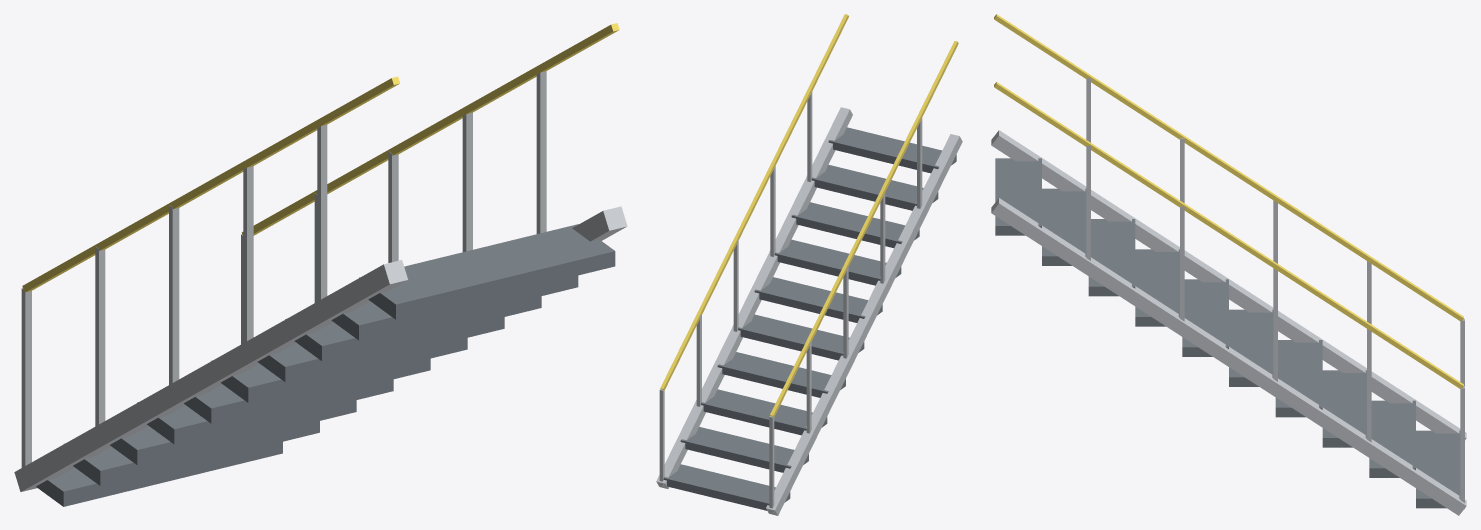
The model's file is mech-hangar-and-battle-frames-gantry-stair-97a75b2c__26927.glb.
3 renders of one model, left to right at view 1: azimuth 30°, elevation 25°; view 2: azimuth 150°, elevation 25°; view 3: azimuth 270°, elevation 25°, orthographic. The views are drawn at different scales.
Visible parts, largest first — view 1: gantry-stair; view 2: gantry-stair; view 3: gantry-stair.
Part boxes in pixels (x1,y1,x2,y2): gantry-stair: [14, 23, 627, 506]; gantry-stair: [656, 14, 962, 515]; gantry-stair: [991, 14, 1466, 515].
Size of the model in its own units: 1.3 by 3.55 by 3.56.
